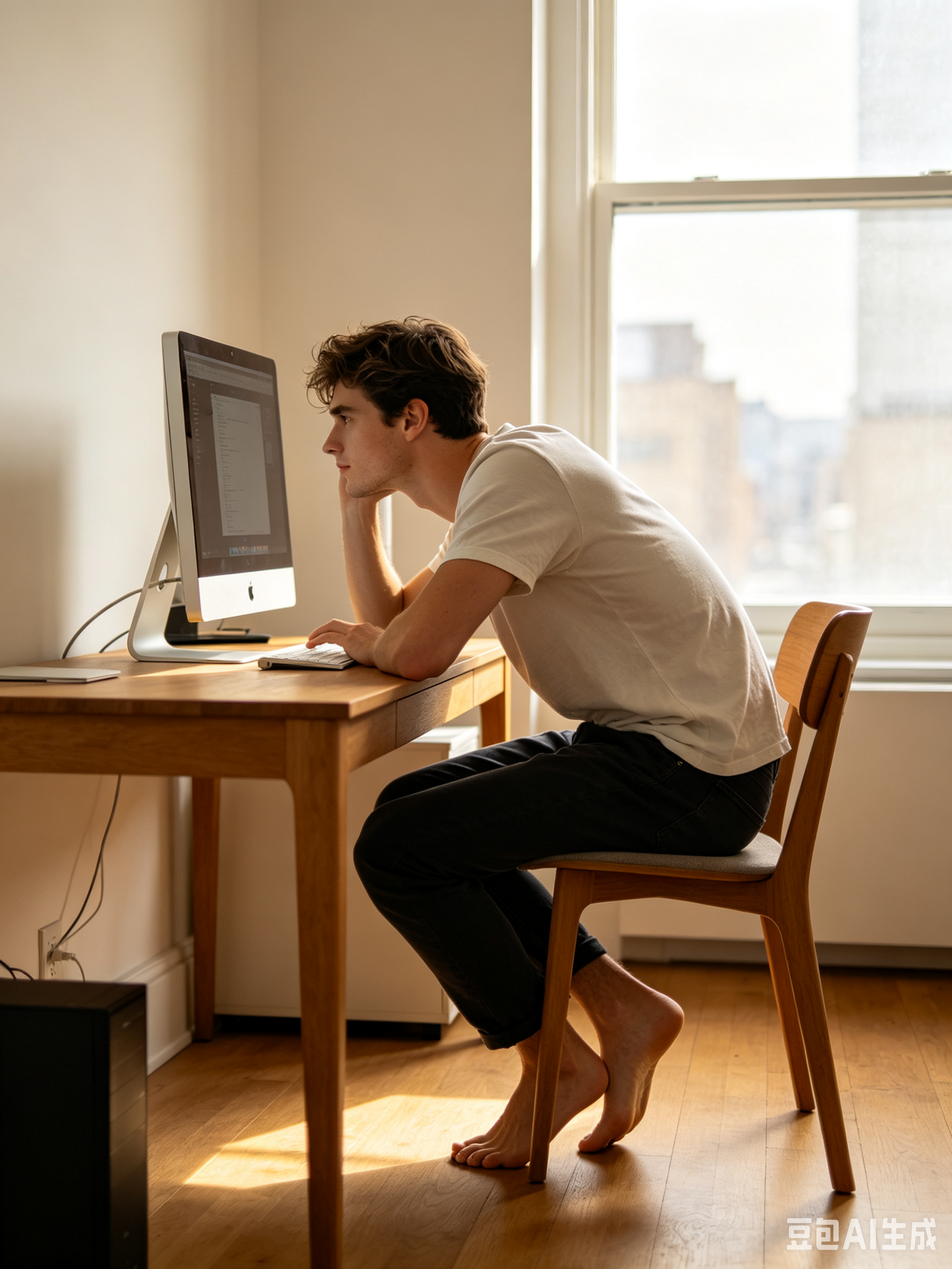sitting_bad: (290, 330, 745, 888)
